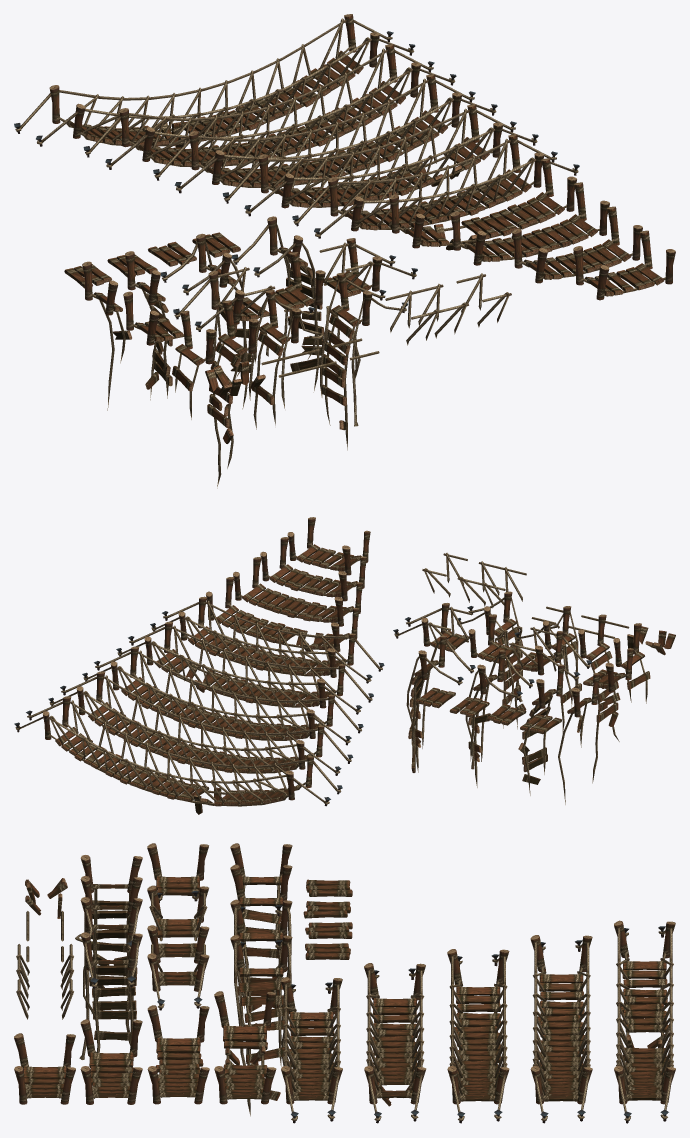
File: all.fbx
3 views of the same model, one above another, from view 1: azimuth 30°, elevation 25°; view 2: azimuth 150°, elevation 25°; view 3: azimuth 270°, elevation 25° (orthographic). The views are drawn at different scales.
Parts seen in each view (by area): view 1: rope_bridge_example_08, rope_bridge_example_07, rope_bridge_example_06, rope_bridge_example_05, rope_bridge_example_04, rope_bridge_example_03, rope_bridge_ruin_l_01, rope_bridge_example_02, rope_bridge_example_01, rope_bridge_ruin_r_01, rope_bridge_ruin_l_02, rope_bridge_example_00 (+10 smaller); view 2: rope_bridge_example_08, rope_bridge_example_07, rope_bridge_example_06, rope_bridge_example_05, rope_bridge_example_04, rope_bridge_example_02, rope_bridge_example_03, rope_bridge_example_01, rope_bridge_ruin_r_01, rope_bridge_ruin_l_01, rope_bridge_ruin_r_02, rope_bridge_example_00 (+14 smaller); view 3: rope_bridge_example_08, rope_bridge_example_07, rope_bridge_example_06, rope_bridge_example_05, rope_bridge_example_04, rope_bridge_example_03, rope_bridge_ruin_l_01, rope_bridge_example_02, rope_bridge_ruin_r_01, rope_bridge_example_01, rope_bridge_example_00, rope_bridge_ruin_r_small_01 (+14 smaller).
Boxes of the visible parts, box(x1,y1,x2,y2) form: rope_bridge_example_08: box(14, 14, 415, 147); rope_bridge_example_07: box(83, 44, 456, 169); rope_bridge_example_06: box(153, 74, 497, 193); rope_bridge_example_05: box(222, 104, 538, 216); rope_bridge_example_04: box(292, 134, 579, 238); rope_bridge_example_03: box(389, 158, 576, 250); rope_bridge_ruin_l_01: box(320, 272, 407, 450); rope_bridge_example_02: box(450, 182, 609, 265); rope_bridge_example_01: box(512, 206, 642, 283); rope_bridge_ruin_r_01: box(232, 216, 324, 392); rope_bridge_ruin_l_02: box(248, 290, 323, 429); rope_bridge_example_00: box(573, 230, 675, 300); rope_bridge_example_08: box(14, 696, 342, 814); rope_bridge_example_07: box(48, 671, 353, 775); rope_bridge_example_06: box(82, 646, 363, 745); rope_bridge_example_05: box(116, 621, 373, 714); rope_bridge_example_04: box(150, 596, 384, 683); rope_bridge_example_02: box(233, 557, 362, 626); rope_bridge_example_03: box(206, 577, 359, 651); rope_bridge_example_01: box(260, 537, 366, 601); rope_bridge_ruin_r_01: box(406, 635, 475, 772); rope_bridge_ruin_l_01: box(455, 591, 526, 729); rope_bridge_ruin_r_02: box(465, 650, 534, 787); rope_bridge_example_00: box(287, 517, 370, 575); rope_bridge_example_08: box(614, 920, 675, 1123); rope_bridge_example_07: box(530, 935, 592, 1123); rope_bridge_example_06: box(447, 949, 509, 1123); rope_bridge_example_05: box(364, 963, 426, 1123); rope_bridge_example_04: box(280, 977, 342, 1123); rope_bridge_example_03: box(214, 991, 276, 1104); rope_bridge_ruin_l_01: box(79, 932, 142, 1059); rope_bridge_example_02: box(147, 1005, 209, 1104); rope_bridge_ruin_r_01: box(230, 935, 292, 1116); rope_bridge_example_01: box(80, 1019, 142, 1104); rope_bridge_example_00: box(14, 1033, 75, 1104); rope_bridge_ruin_r_small_01: box(230, 864, 292, 1008).
Bounding box in the file's own units: 1760 × 619 × 1988.
Materials: 1 (1 with a texture image).
